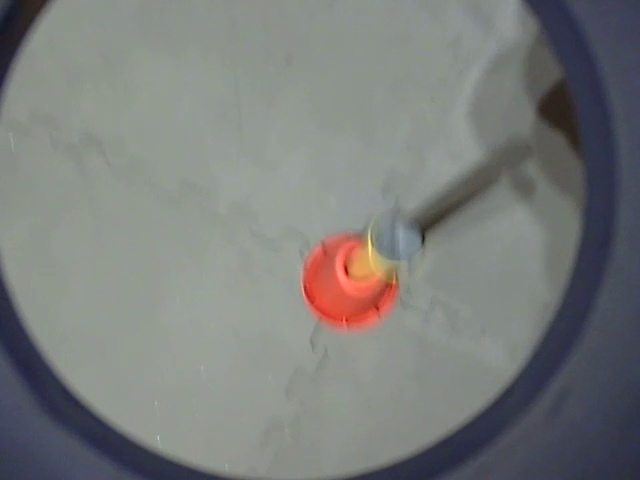tip: (364, 205, 434, 277)
